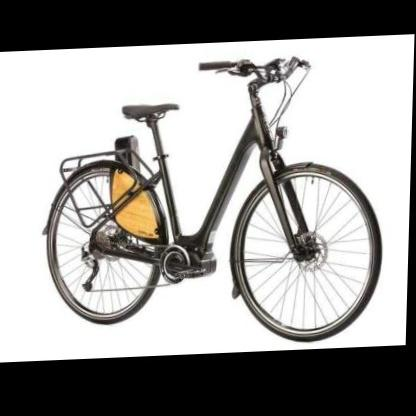Bicycle: (12, 45, 396, 355)
